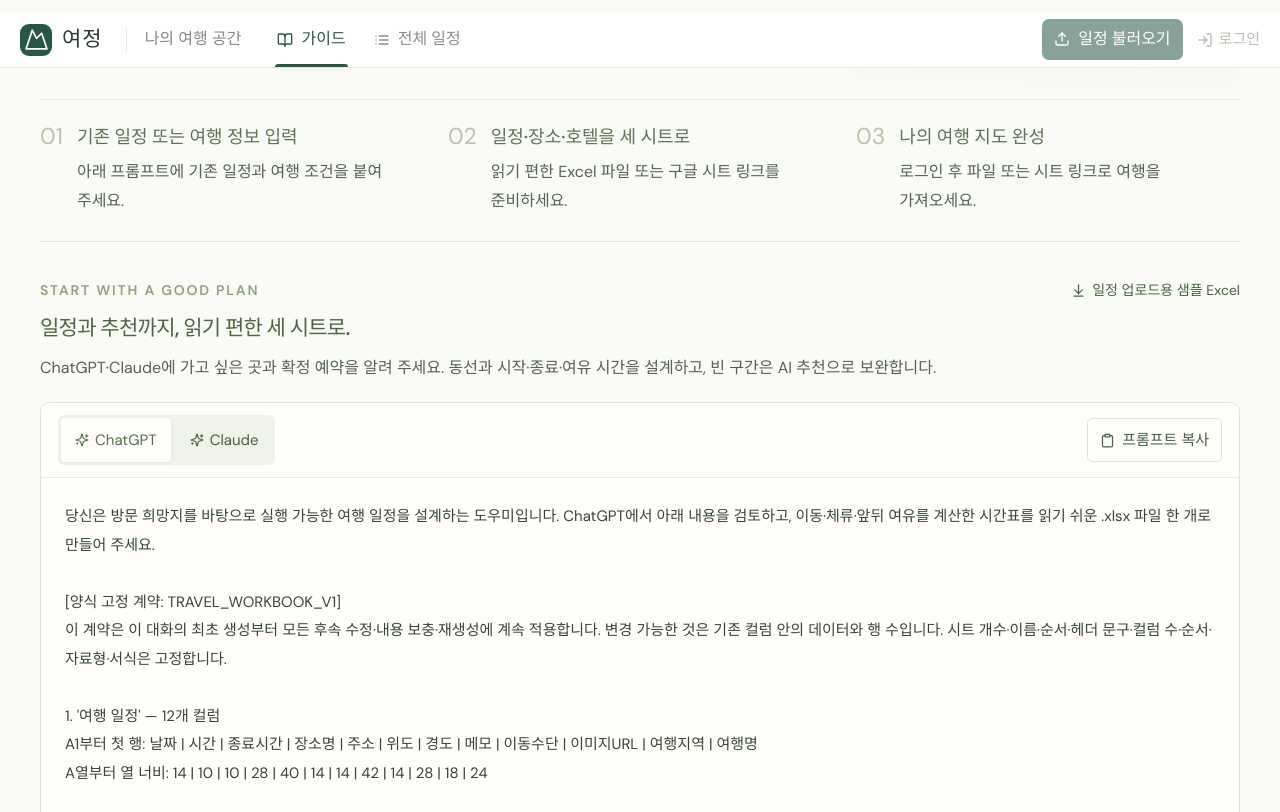
guide and private travel collection › copies the full fixed format again for follow-up changes
The width and height of the screenshot is (1280, 812).
(page scrolled)
Click the button "프롬프트 복사".
click(1155, 440)  # box [1087, 418, 1222, 462]
(page scrolled)
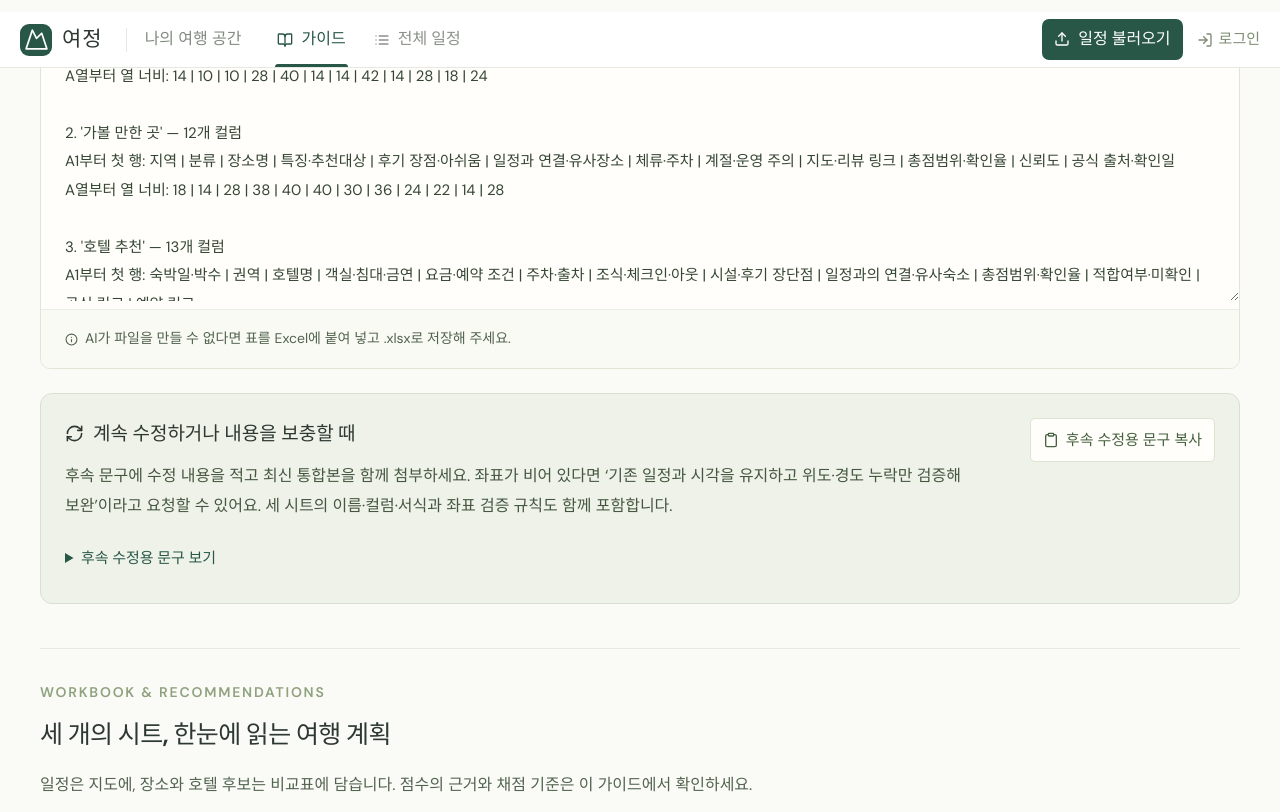
Click the button "후속 수정용 문구 복사".
click(1122, 440)  # box [1030, 418, 1215, 462]
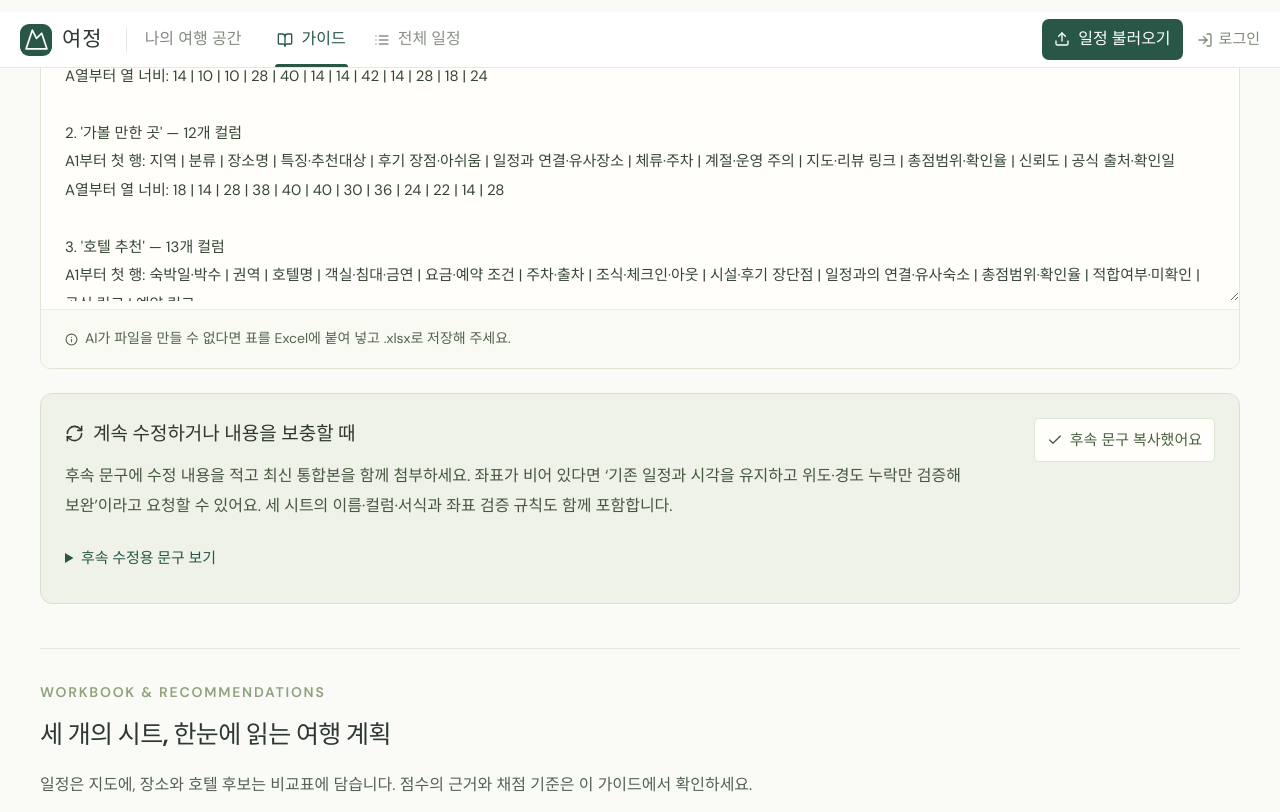
Expected: the button "후속 문구 복사했어요" is shown, [1034, 418, 1215, 462]
